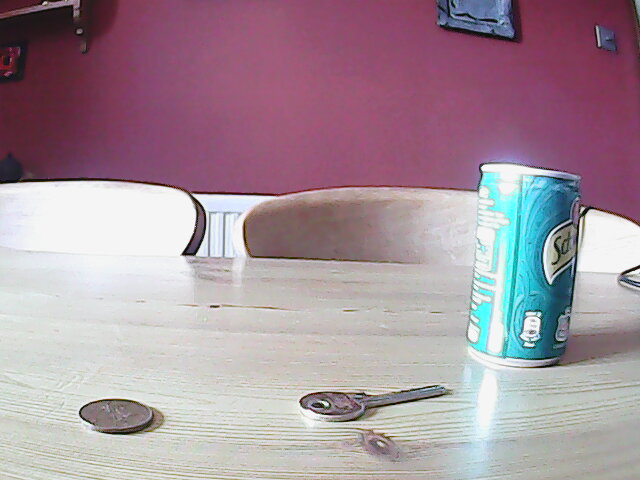Can: (462, 159, 587, 370)
Coin: (76, 396, 156, 436)
Key: (296, 383, 449, 423)
